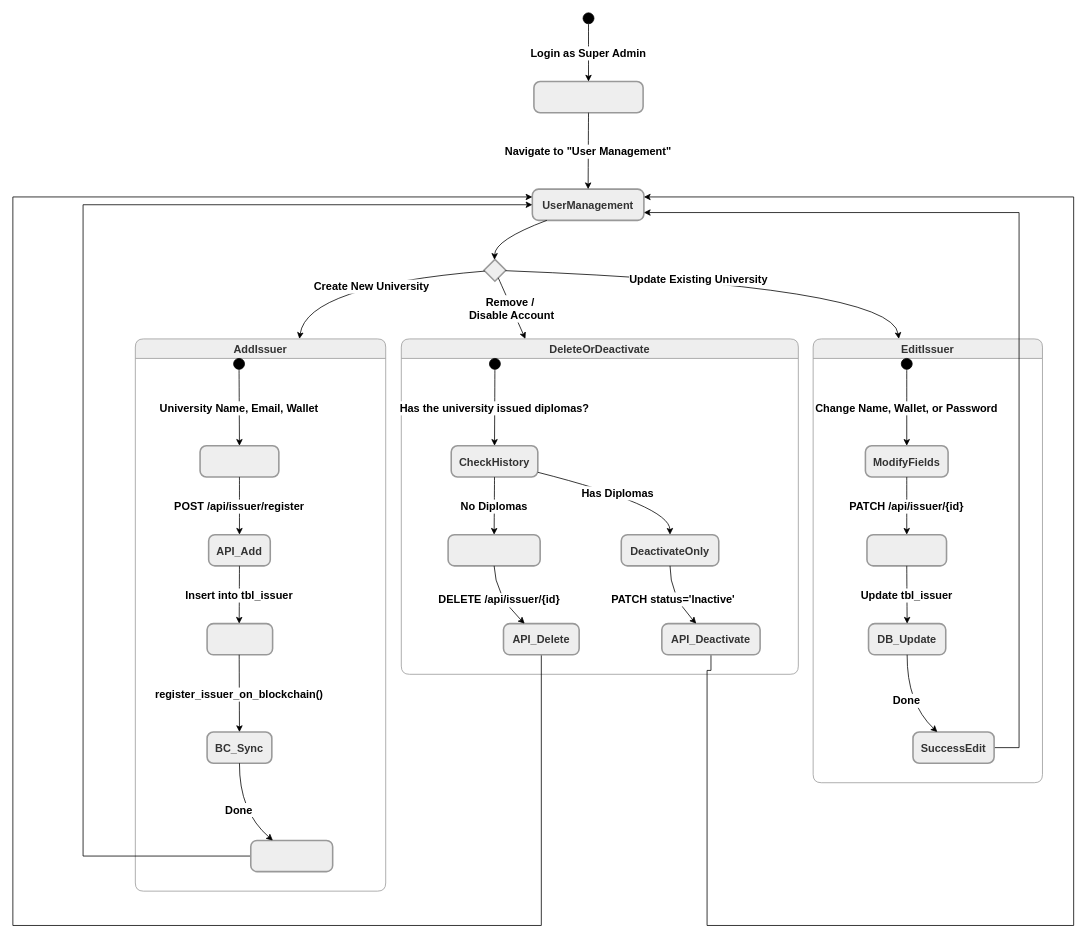
Some shapes in this 1087 by 938 pixel diagram are drawn without their labels. The centre of each missing label's shape, as x and y in pixels:
"AdminDashboard" belongs at point (588, 96).
"API_Update" belongs at point (906, 550).
"DB_Save" belongs at point (239, 638).
"DeleteAllowed" belongs at point (494, 550).
"InputDetails" belongs at point (239, 461).
"SuccessAdd" belongs at point (291, 855).
